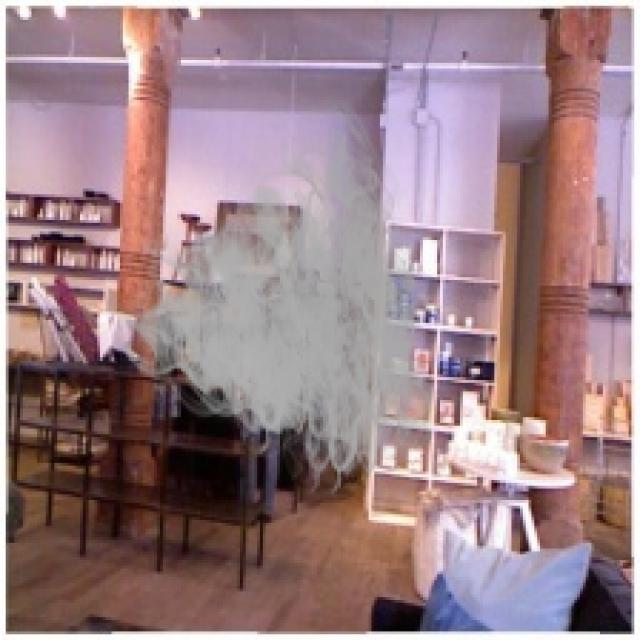smoke: (106, 91, 454, 512)
